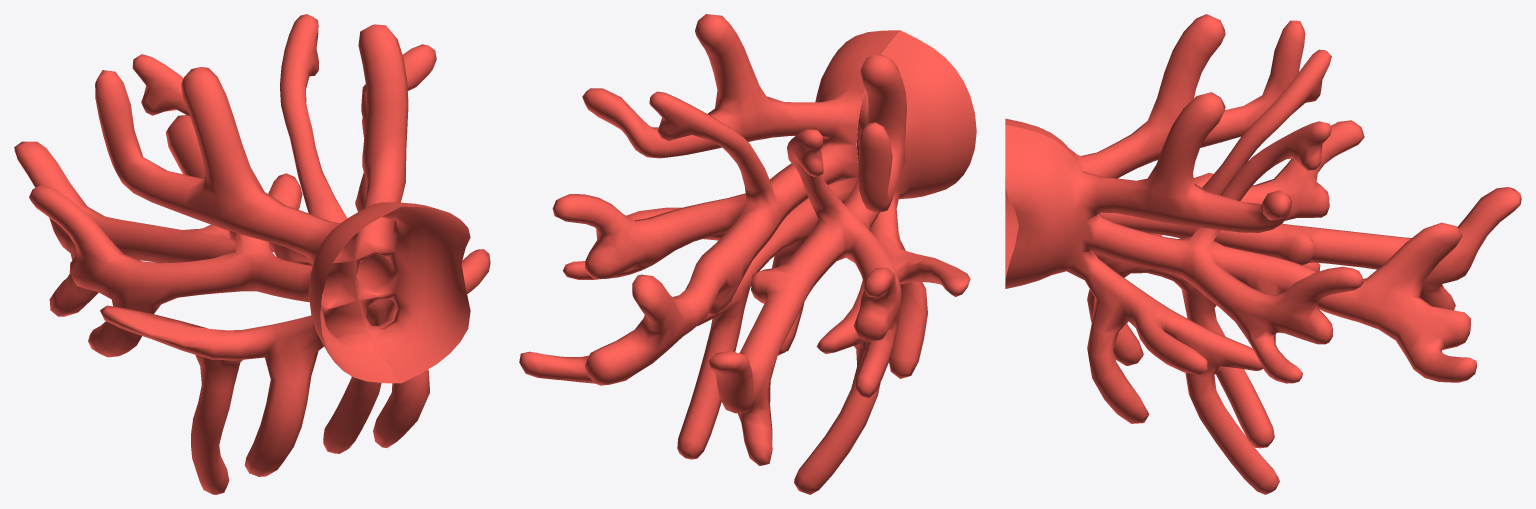
File: Coral 21.fbx
The picture shows the model from 3 angles, left to right: view 1: azimuth 30°, elevation 25°; view 2: azimuth 150°, elevation 25°; view 3: azimuth 270°, elevation 25°; orthographic projection. The views are drawn at different scales.
Visible parts, largest first — view 1: Coral 21; view 2: Coral 21; view 3: Coral 21.
Part boxes in pixels (x1=…): Coral 21: x1=14, y1=14, x2=490, y2=494; Coral 21: x1=519, y1=14, x2=976, y2=494; Coral 21: x1=1005, y1=14, x2=1521, y2=494.
Bounding box in the file's own units: 5.69 × 6.51 × 7.37.
